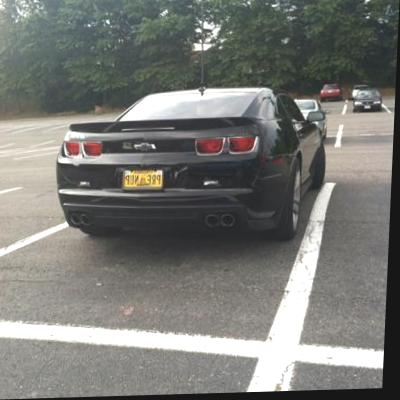License_Plate: (122, 170, 164, 188)
